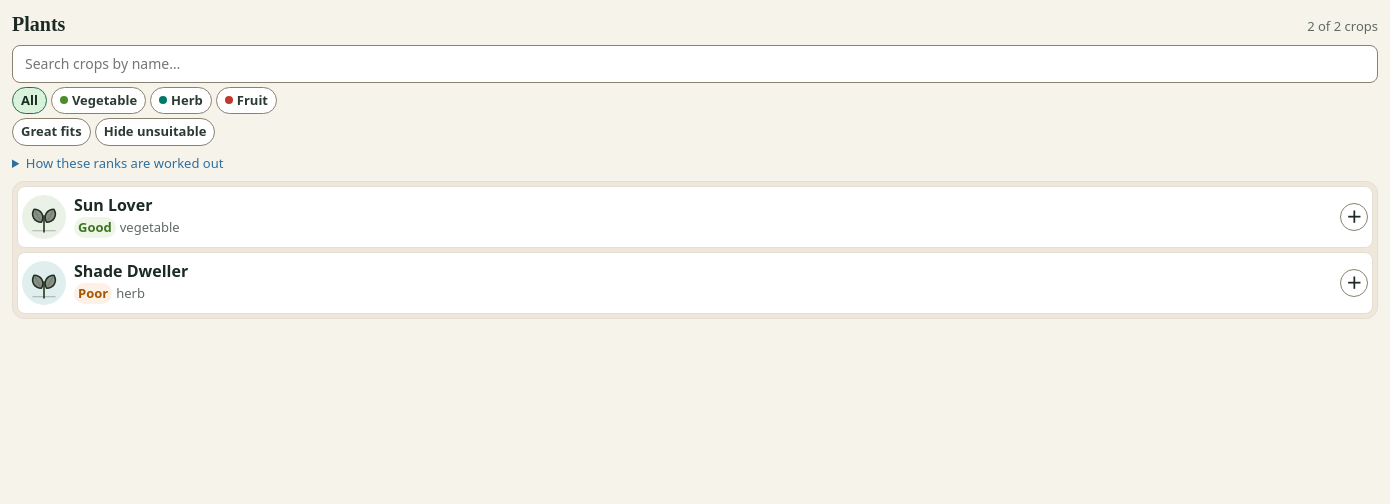
Test: PlantPalette › opens the engine’s reasoning on the card’s first click, and closes it on the second
Expected: the text "confidence:" is not shown
Click the button with aria-label "drag sun lover onto the plot to place it": (101, 216) [22,194,180,239]
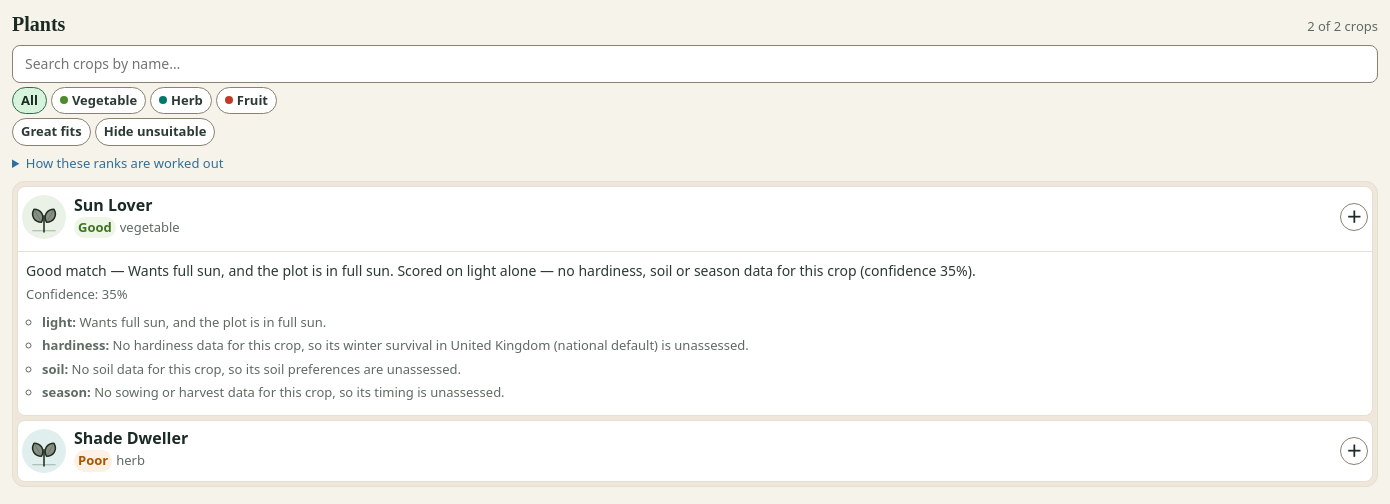
Result: the text "Confidence: 35%" is shown at [26,285,127,303]
Result: the text "light:" is shown at [42,313,76,331]
Click the button with aria-label "drag sun lover onto the plot to place it": (101, 216) [22,194,180,239]
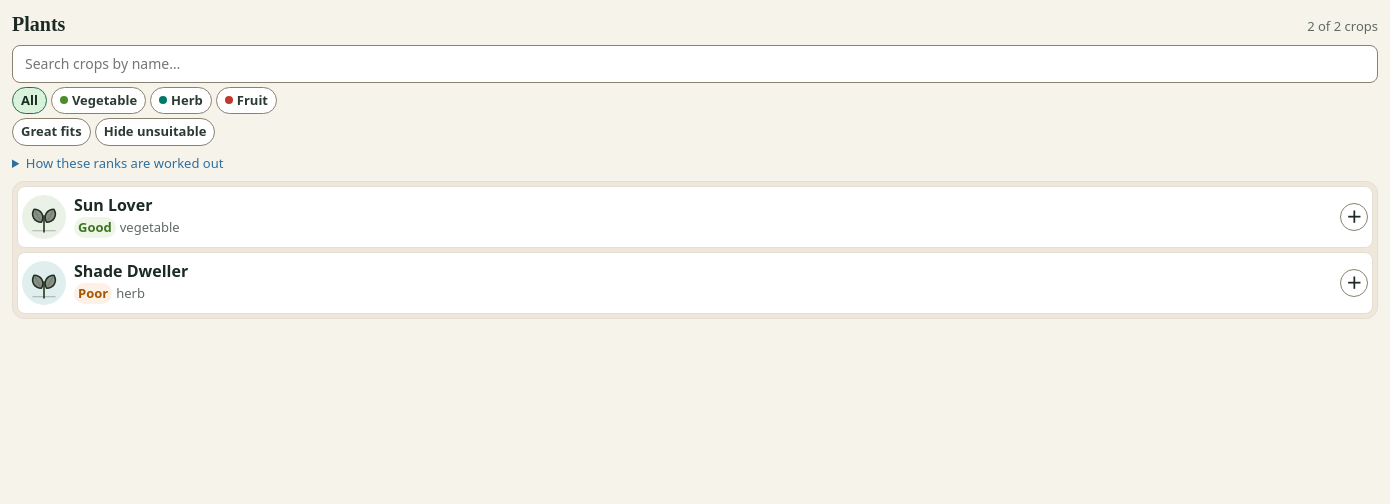
Result: the text "Confidence:" is gone
